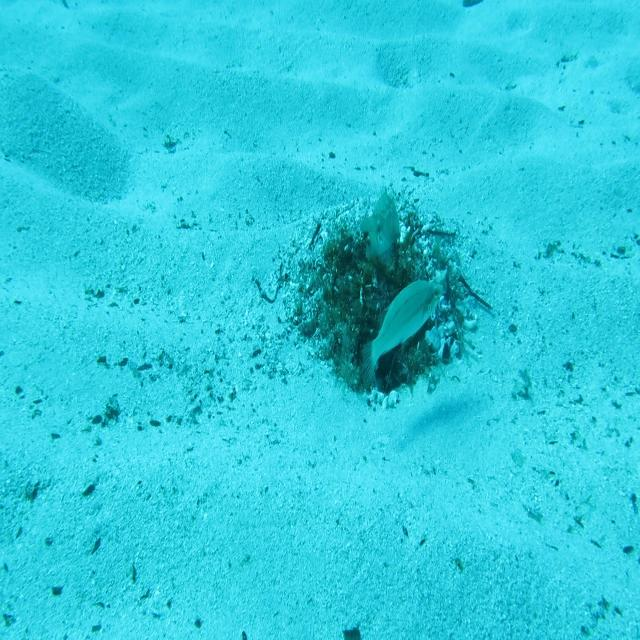NIP_CORE: (358, 184, 403, 269)
core_nest: (349, 244, 407, 290)
female: (360, 276, 445, 393)
nest: (276, 191, 489, 431)
vegetation: (462, 0, 484, 12)
